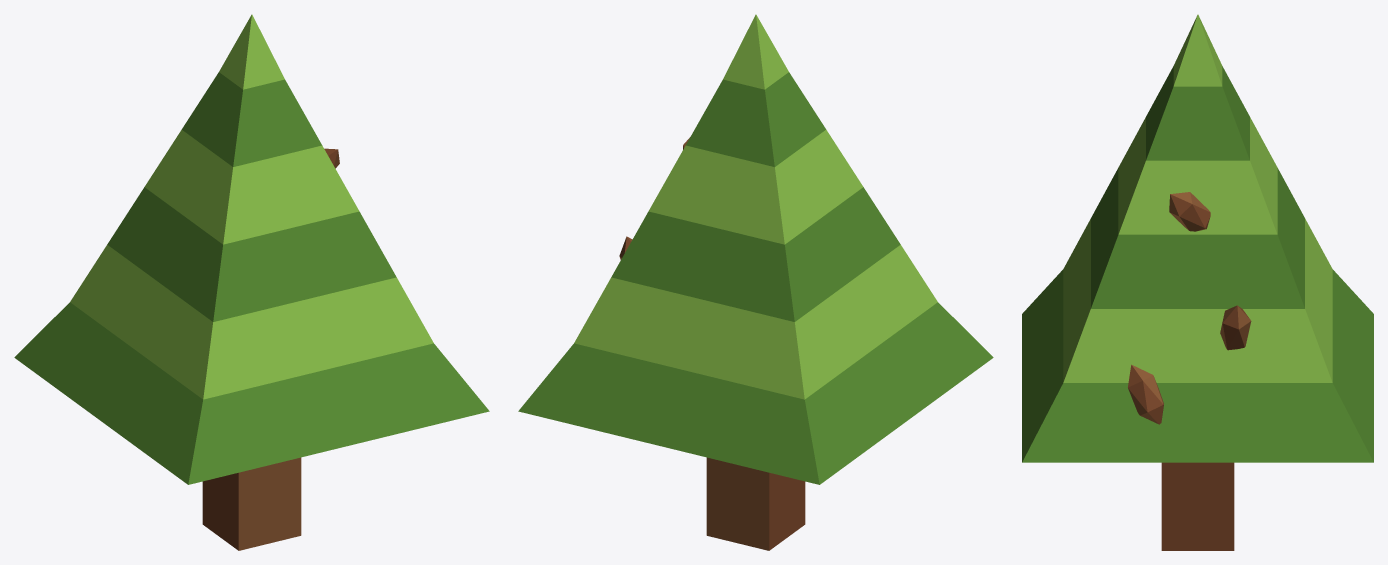
File: trees_pine.fbx
3 views of the same model, side by side, from view 1: azimuth 30°, elevation 25°; view 2: azimuth 150°, elevation 25°; view 3: azimuth 270°, elevation 25° (orthographic).
Visible parts, largest first — view 1: Plane; view 2: Plane; view 3: Plane.
Part boxes in pixels (box(x1,y1,x2,y2)): Plane: box(14, 14, 489, 550); Plane: box(518, 14, 993, 550); Plane: box(1022, 14, 1373, 550).
Bounding box in the file's own units: 256 × 418 × 256.
1 material, 1 textured.
